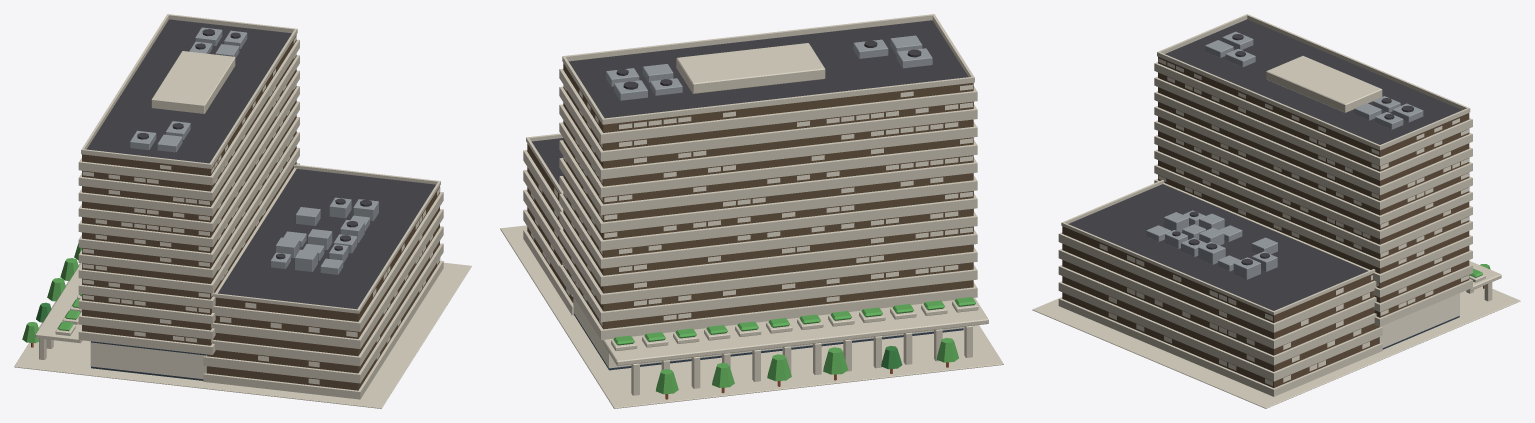
File: federal-reserve.glb
The picture shows the model from 3 angles, left to right: view 1: azimuth 30°, elevation 25°; view 2: azimuth 150°, elevation 25°; view 3: azimuth 270°, elevation 25°; orthographic projection. The views are drawn at different scales.
Parts seen in each view (by area): view 1: federal-reserve_body, federal-reserve_night_glow; view 2: federal-reserve_body, federal-reserve_night_glow; view 3: federal-reserve_body, federal-reserve_night_glow.
Part boxes in pixels (x1,y1,x2,y2): federal-reserve_body: (14, 14, 471, 408); federal-reserve_night_glow: (82, 36, 440, 384); federal-reserve_body: (500, 14, 1003, 408); federal-reserve_night_glow: (531, 84, 973, 368); federal-reserve_body: (1032, 14, 1520, 408); federal-reserve_night_glow: (1099, 58, 1468, 386).
Size of the model in its own units: 130 by 63.1 by 130.
